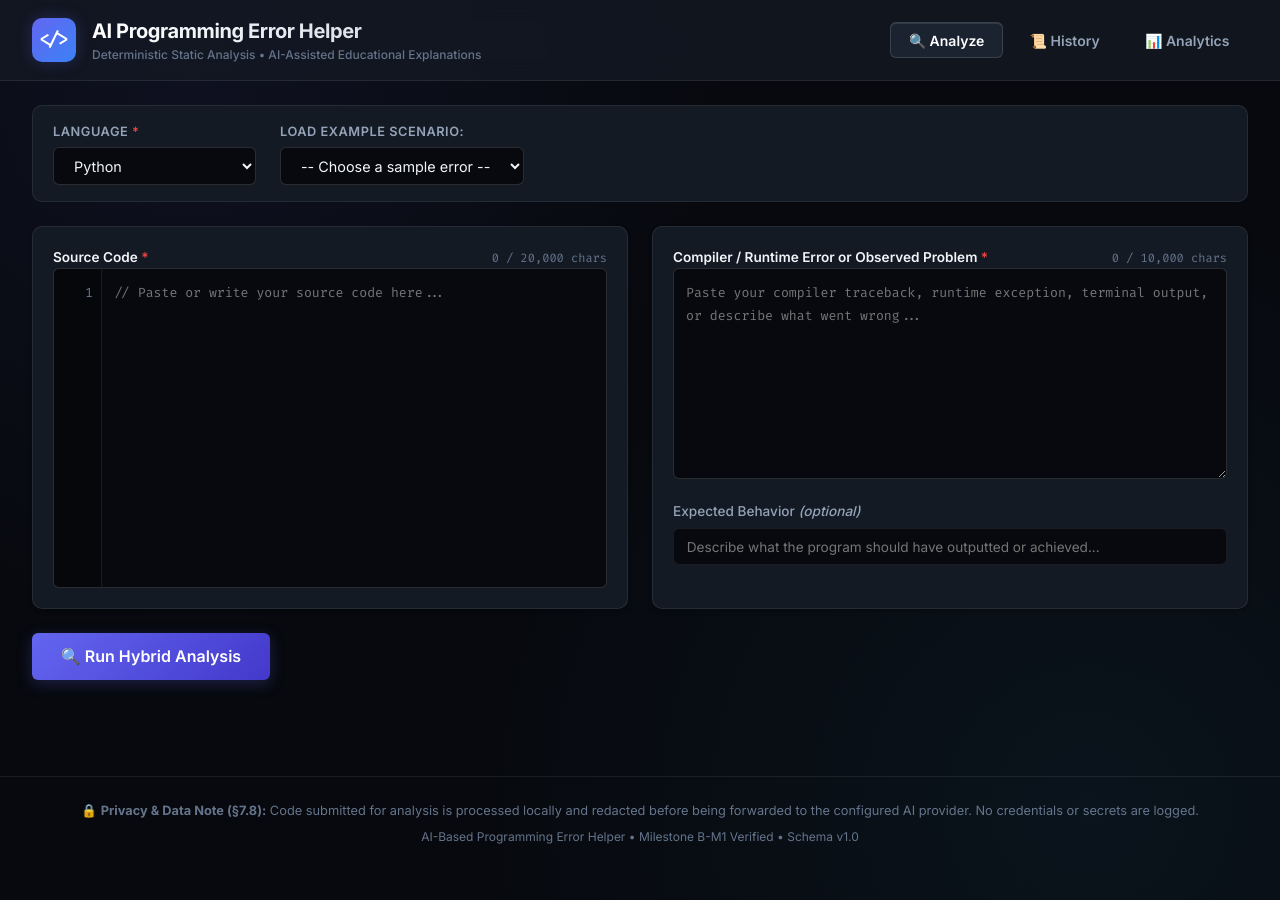
it: App Component and Workflow › displays client validation messages when submitted with empty fields
Step 1. Click the button "🔍 Run Hybrid Analysis" → (151, 656), box x1=32 y1=633 x2=270 y2=680
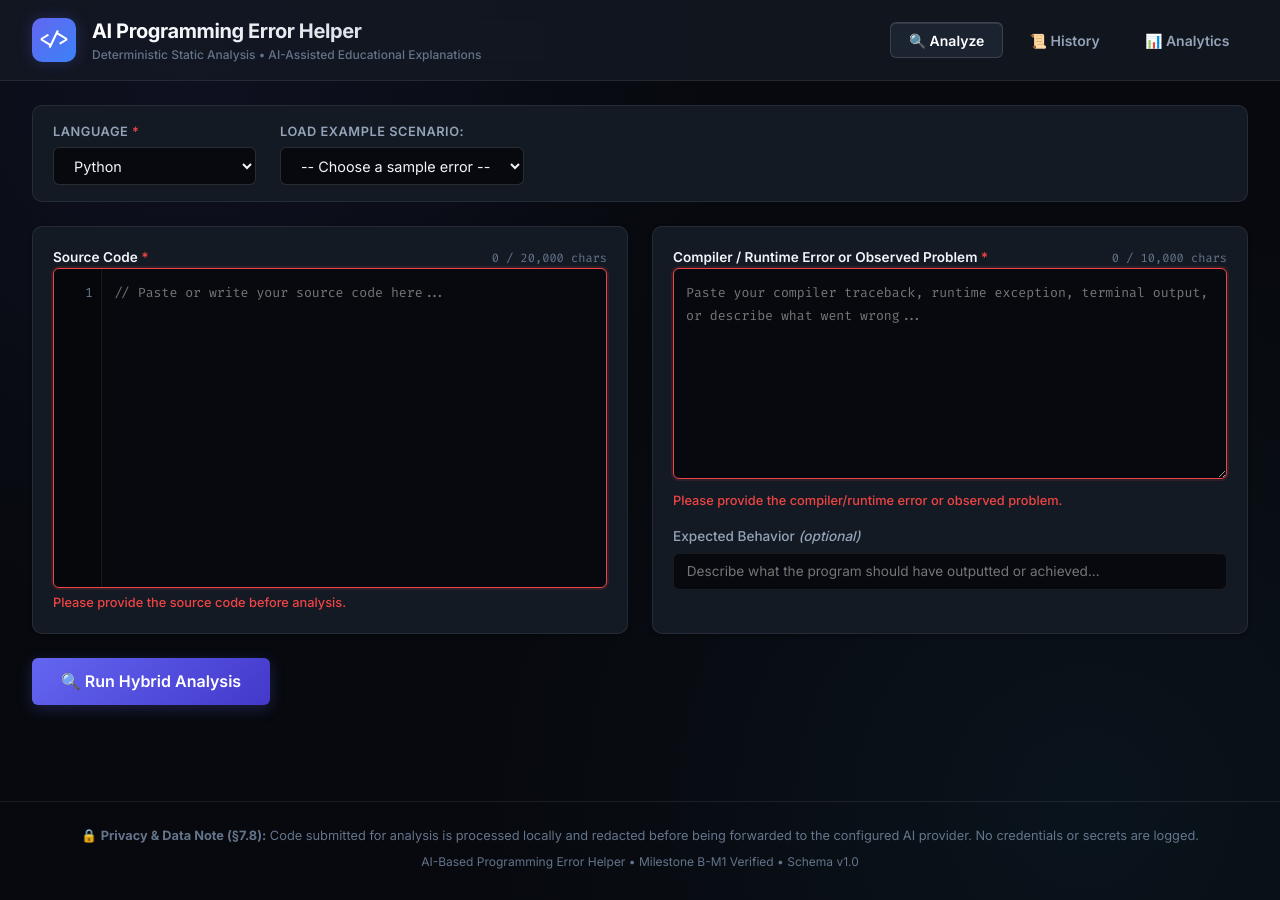
Now the text "Please provide the source code before analysis." is shown, box x1=53 y1=595 x2=346 y2=610
Now the text "Please provide the compiler/runtime error or observed problem." is shown, box x1=673 y1=493 x2=1062 y2=508
